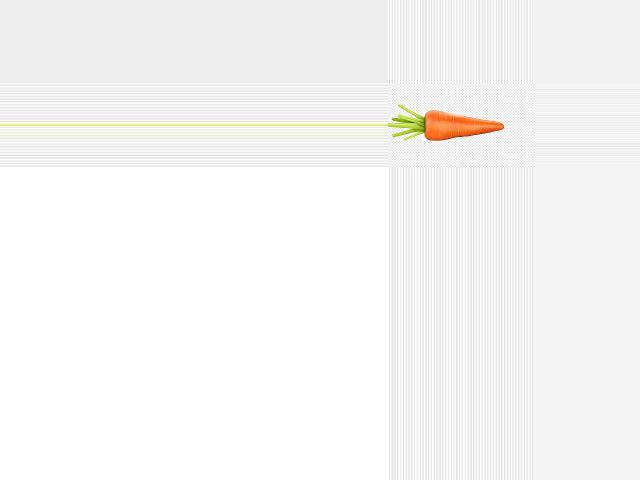carrot: (417, 105, 506, 143)
